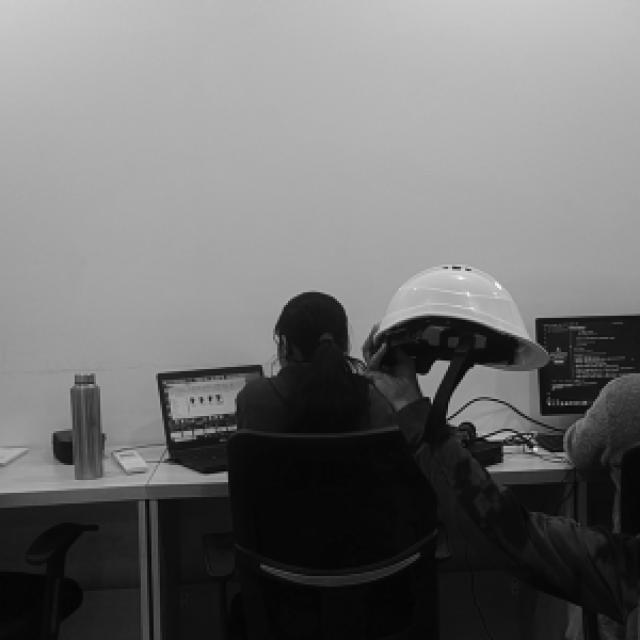safety_helmet: (372, 262, 550, 372)
